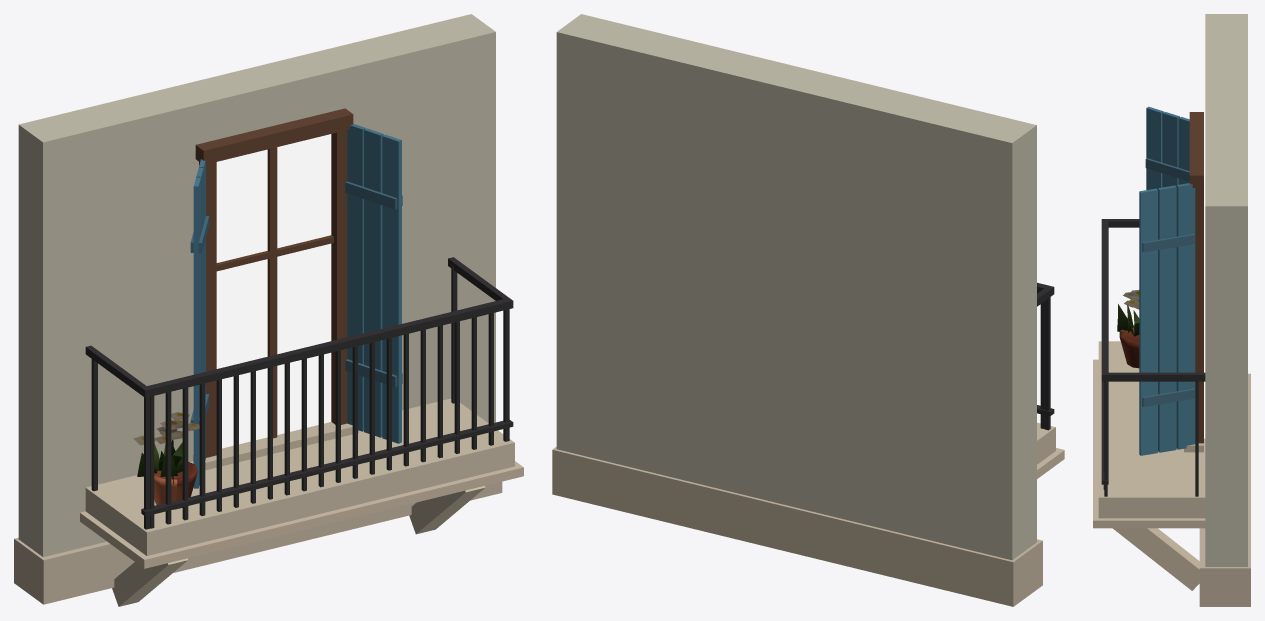
Rendered from balcon_hierro.glb.
The picture shows the model from 3 angles, left to right: view 1: azimuth 30°, elevation 25°; view 2: azimuth 150°, elevation 25°; view 3: azimuth 270°, elevation 25°; orthographic projection. The views are drawn at different scales.
Parts seen in each view (by area): view 1: balcon_hierro_fijo, balcon_hierro_vegetacion, balcon_hierro_piezas; view 2: balcon_hierro_fijo; view 3: balcon_hierro_fijo, balcon_hierro_vegetacion, balcon_hierro_piezas.
Boxes of the visible parts, x1=… form: balcon_hierro_fijo: x1=14, y1=14, x2=523, y2=606; balcon_hierro_vegetacion: x1=133, y1=412, x2=199, y2=484; balcon_hierro_piezas: x1=154, y1=462, x2=197, y2=509; balcon_hierro_fijo: x1=552, y1=14, x2=1064, y2=606; balcon_hierro_fijo: x1=1093, y1=14, x2=1250, y2=606; balcon_hierro_vegetacion: x1=1117, y1=290, x2=1139, y2=336; balcon_hierro_piezas: x1=1119, y1=325, x2=1139, y2=368.
Bounding box in the file's own units: 3.24 × 3.21 × 1.11.
